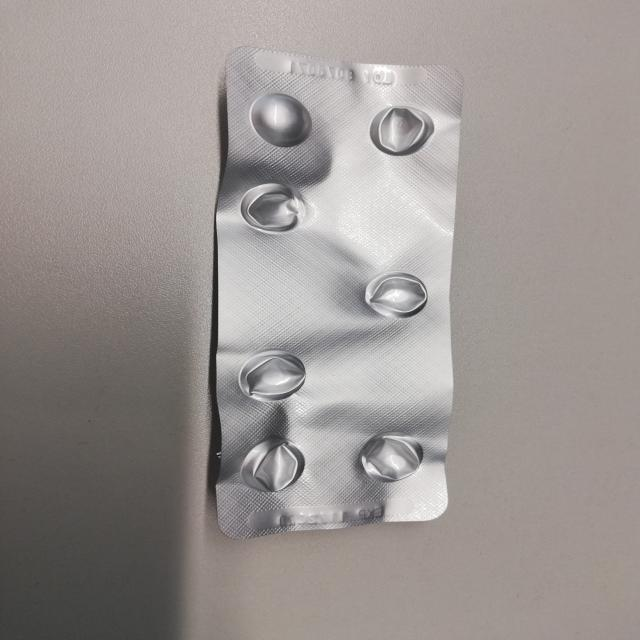Empty: (230, 346, 310, 404), (232, 435, 308, 494), (236, 180, 311, 234), (357, 430, 429, 484), (367, 102, 436, 158), (362, 268, 431, 322)
Pill: (245, 90, 319, 148)
